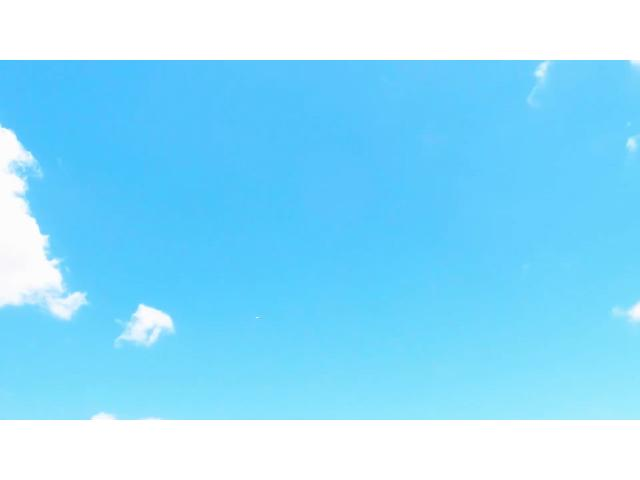Anti-Drone: (248, 313, 270, 326)
